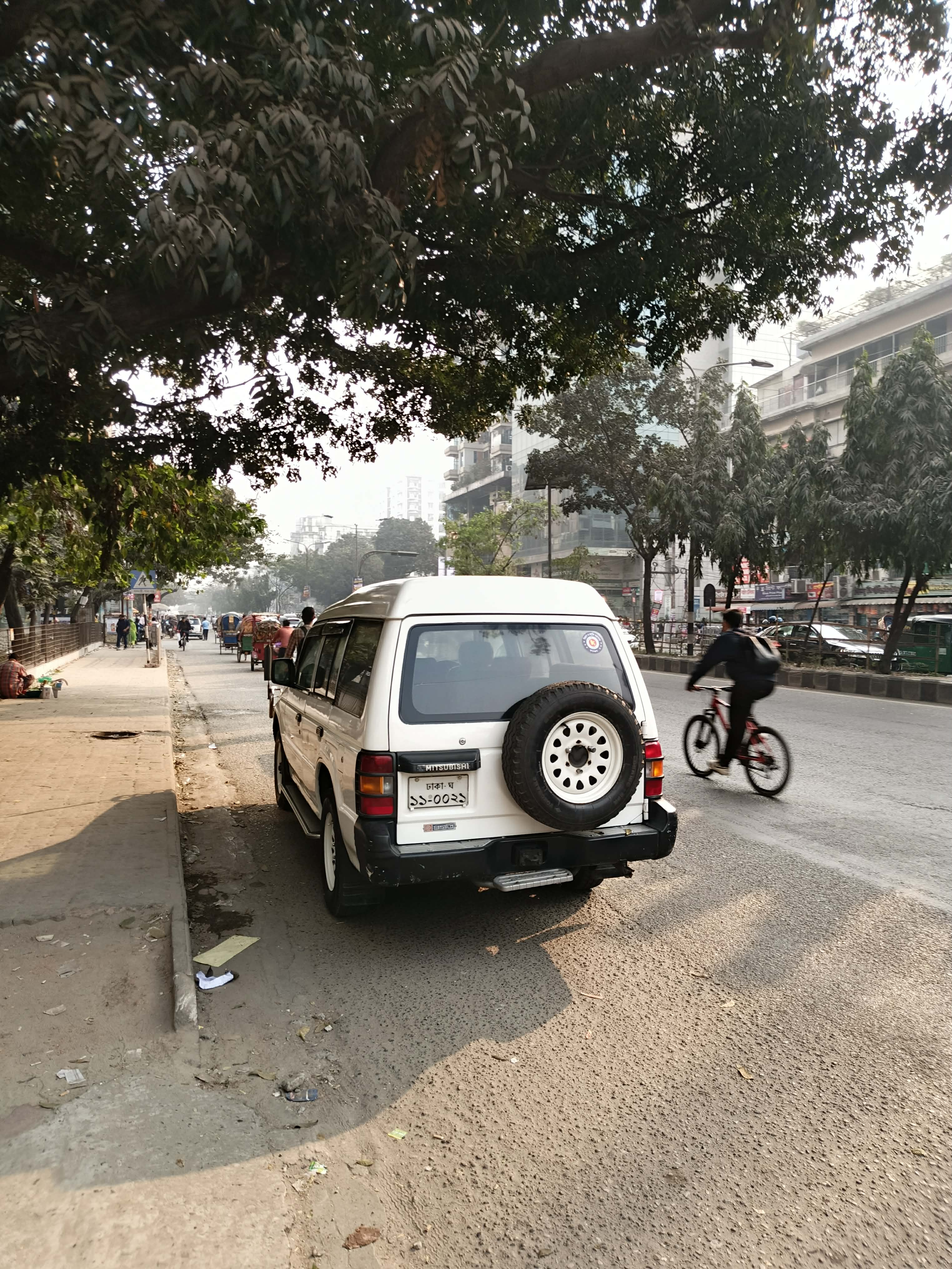Bikes: (681, 625, 865, 832)
auto-ricksaw: (178, 578, 312, 670)
private car: (278, 528, 670, 1022)
